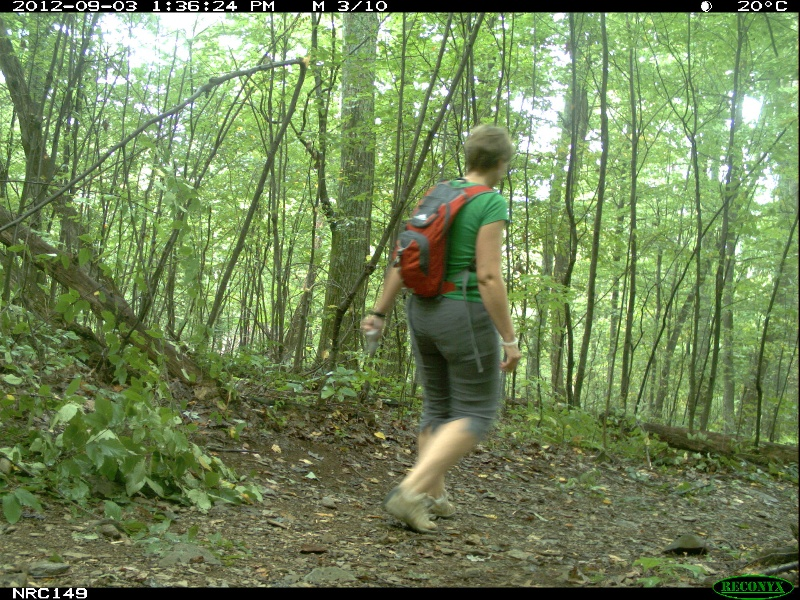human: (363, 119, 519, 538)
human legs: (383, 289, 507, 535)
